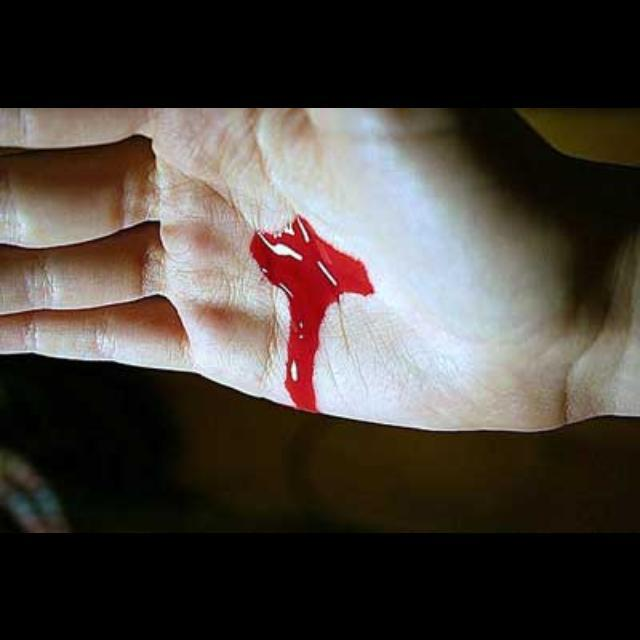blood: (248, 214, 373, 409)
